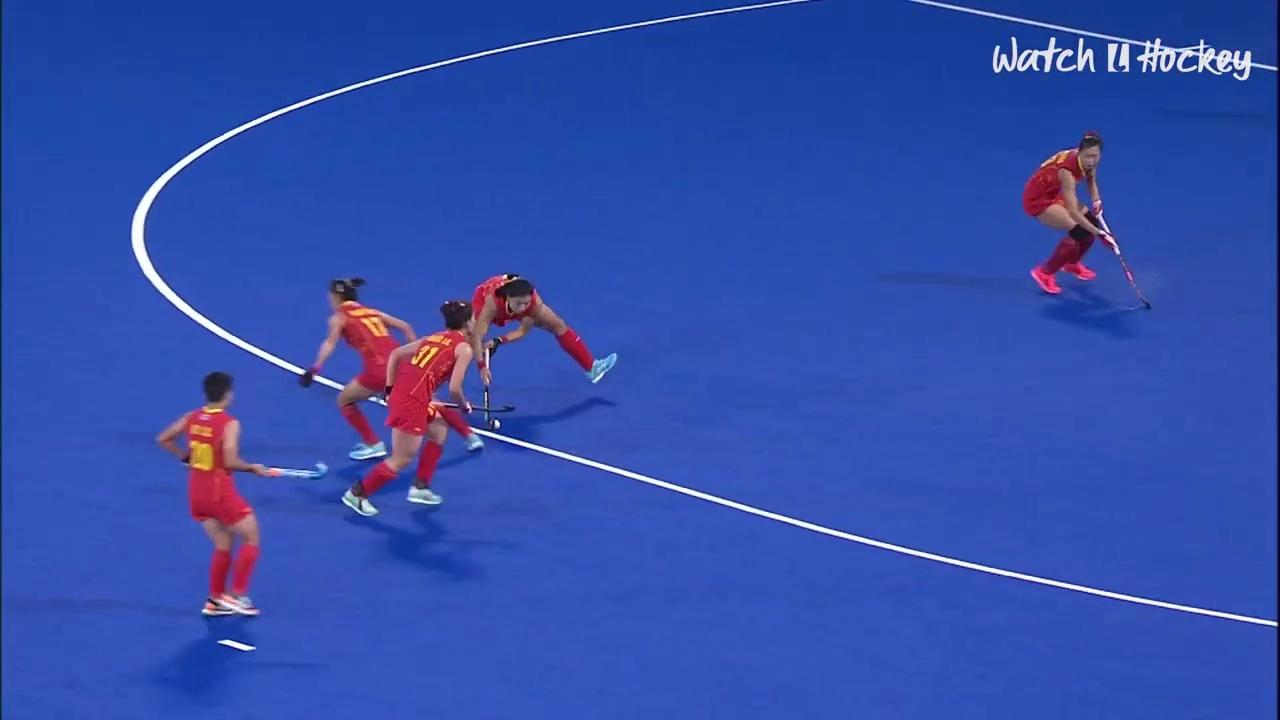ball: (484, 404, 506, 434)
